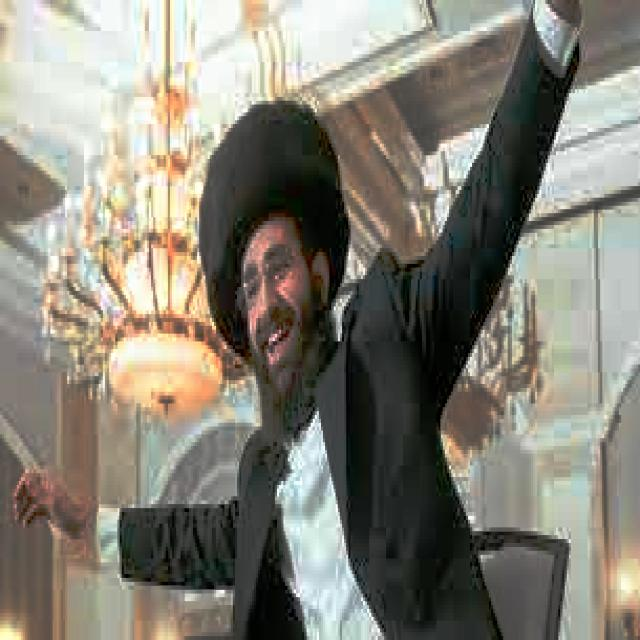TOPI: (193, 85, 348, 357)
